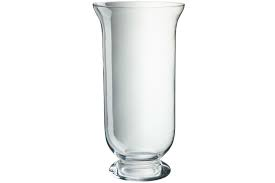glass: (90, 1, 187, 182)
